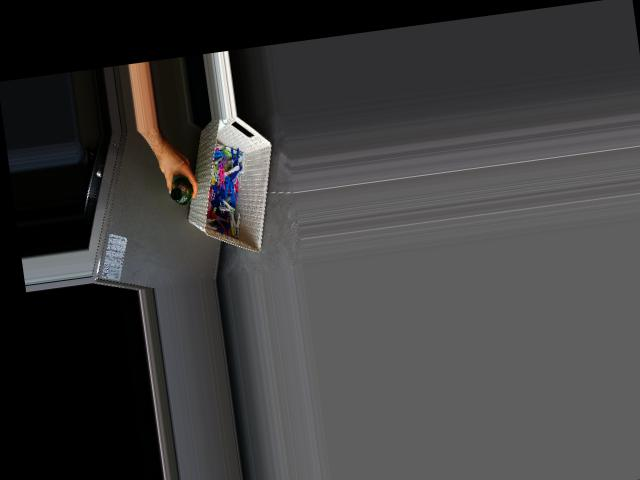beer: (167, 175, 194, 206)
